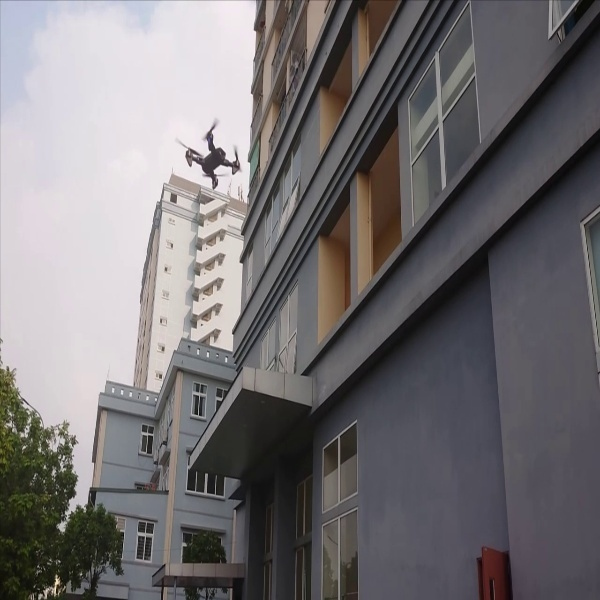drone: (170, 111, 244, 192)
